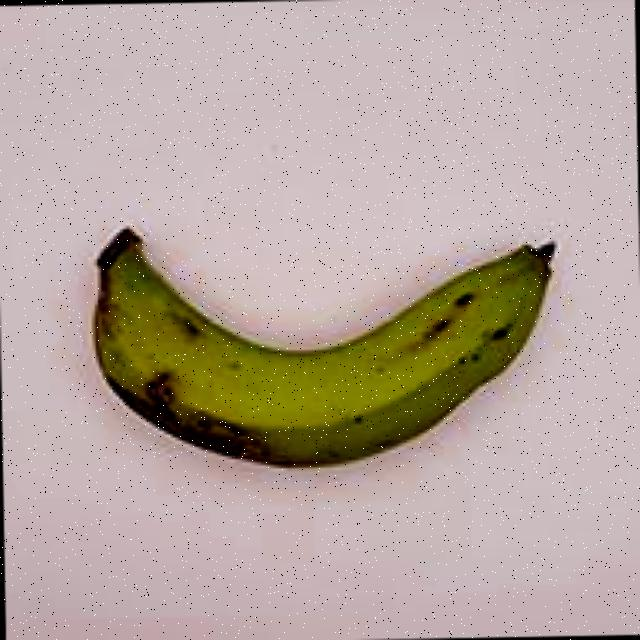Raw: (60, 177, 578, 498)
